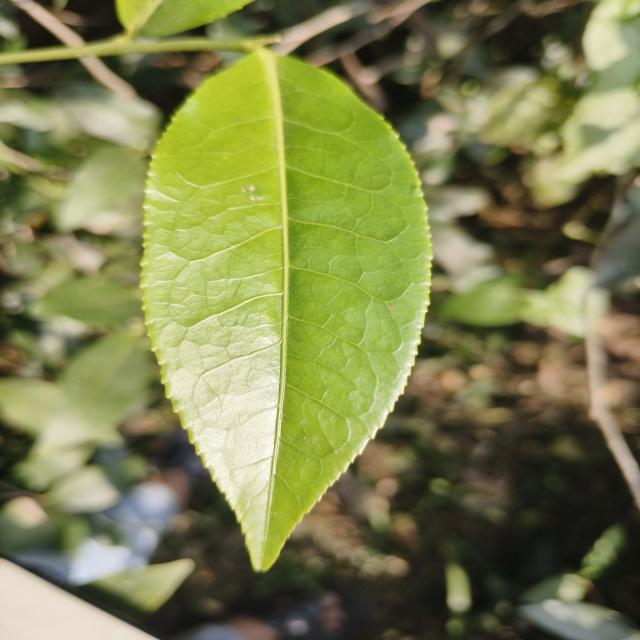Leaf: (141, 50, 431, 570), (61, 333, 151, 443), (56, 146, 148, 230), (60, 87, 160, 150), (34, 277, 141, 326)
